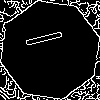I: (25, 25, 73, 50)
